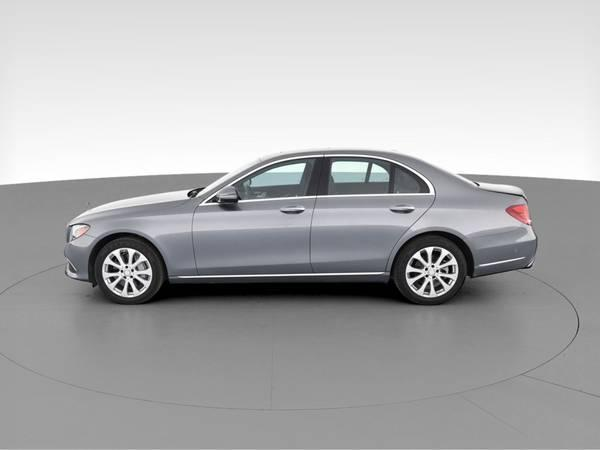Front_Bumper: (63, 235, 97, 283)
Front_Fender: (71, 198, 199, 278)
Front_Left_Door: (190, 194, 314, 282)
Front_Left_Window: (198, 151, 324, 202)
Hood: (74, 186, 199, 222)
Left_Headlight: (64, 223, 88, 244)
Left_Taillight: (506, 203, 532, 224)
Rear_Bumper: (464, 225, 538, 277)
Rear_Fender: (393, 157, 526, 239)
Rear_Left_Door: (310, 194, 435, 280)
Rear_Left_Window: (315, 152, 434, 195)
Wheel: (394, 237, 468, 305), (91, 237, 162, 305)
